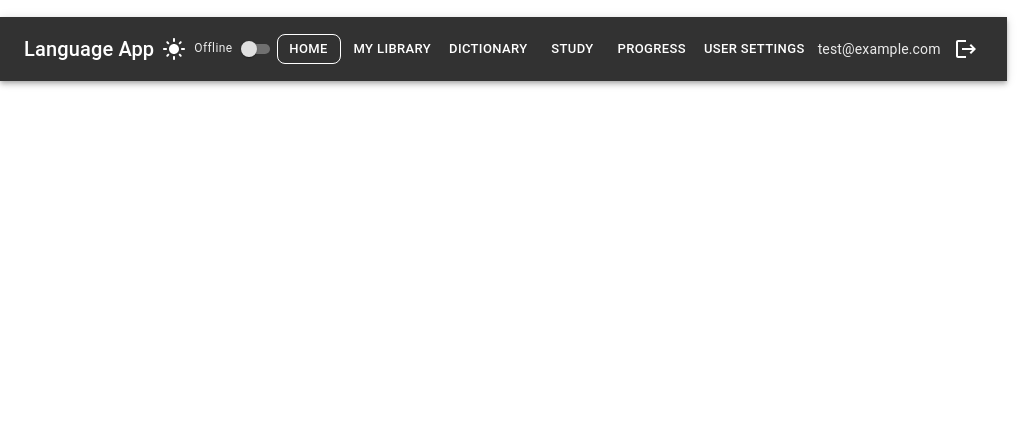
it: Navbar › shows success snackbar when offline toggle ON and sync succeeds
Click the switch. click: [248, 49]
box: [240,41,256,57]
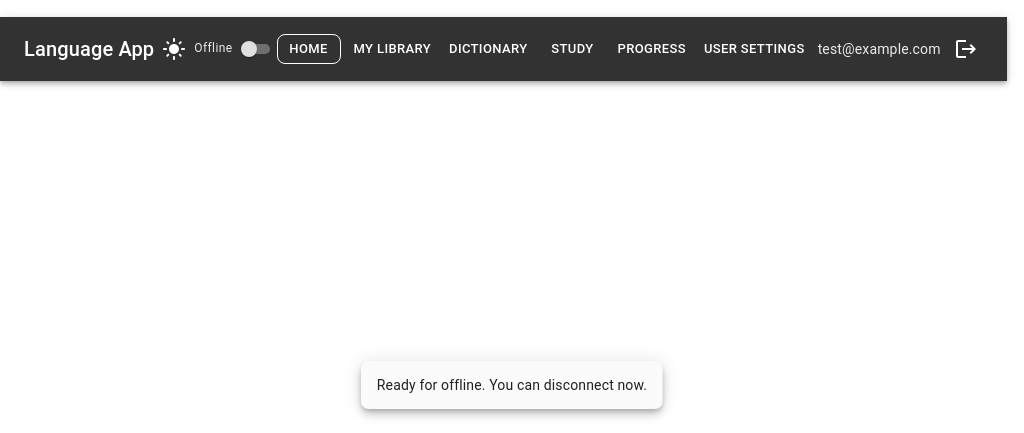
Check: the text "Ready for offline. You can disconnect now." is shown, box [377,377,647,393]
